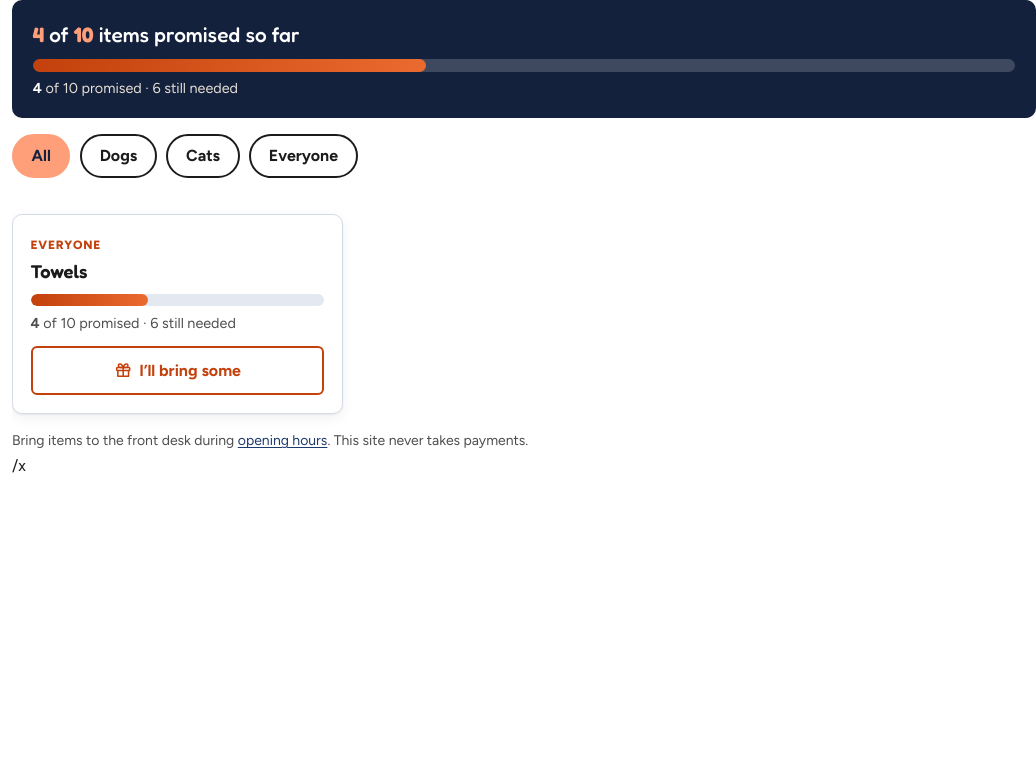
it: Wish list › T-WISH-UI-1: promising items updates the progress bar and thanks the person
Expected: the text "6 still needed" below "Towels" is shown, x1=140 y1=314 x2=236 y2=332
Click the button "I’ll bring some". click: (177, 371)
box: x1=31 y1=346 x2=324 y2=395
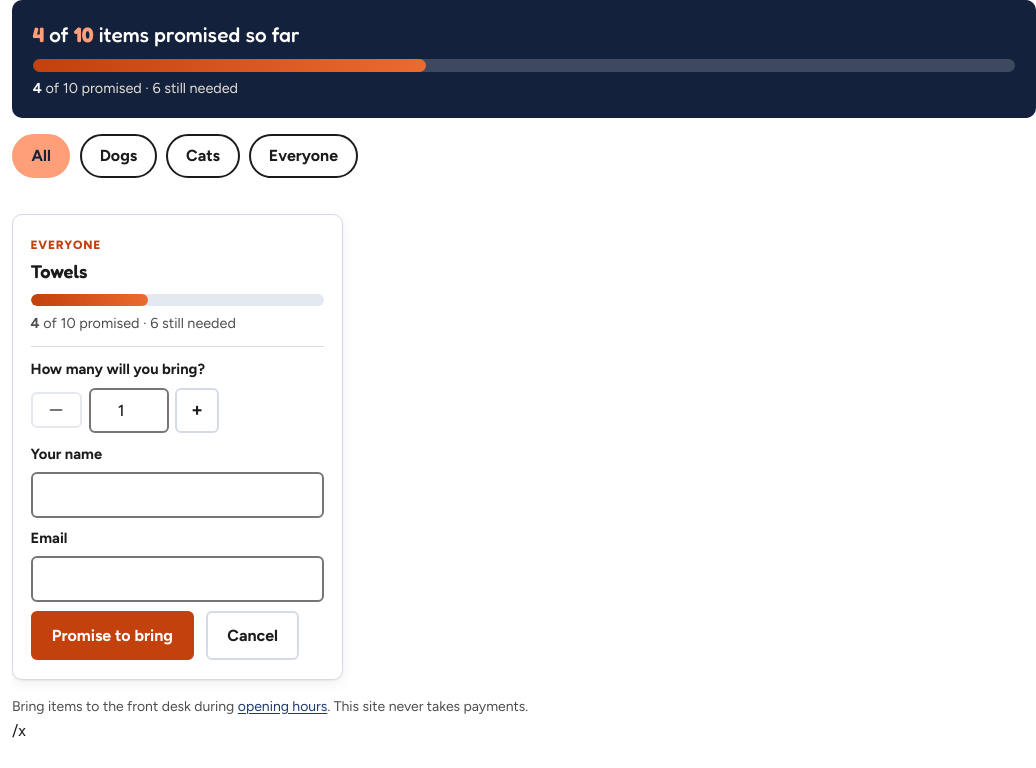
Click the button named "One more". click: (197, 410)
box: x1=175 y1=388 x2=219 y2=432
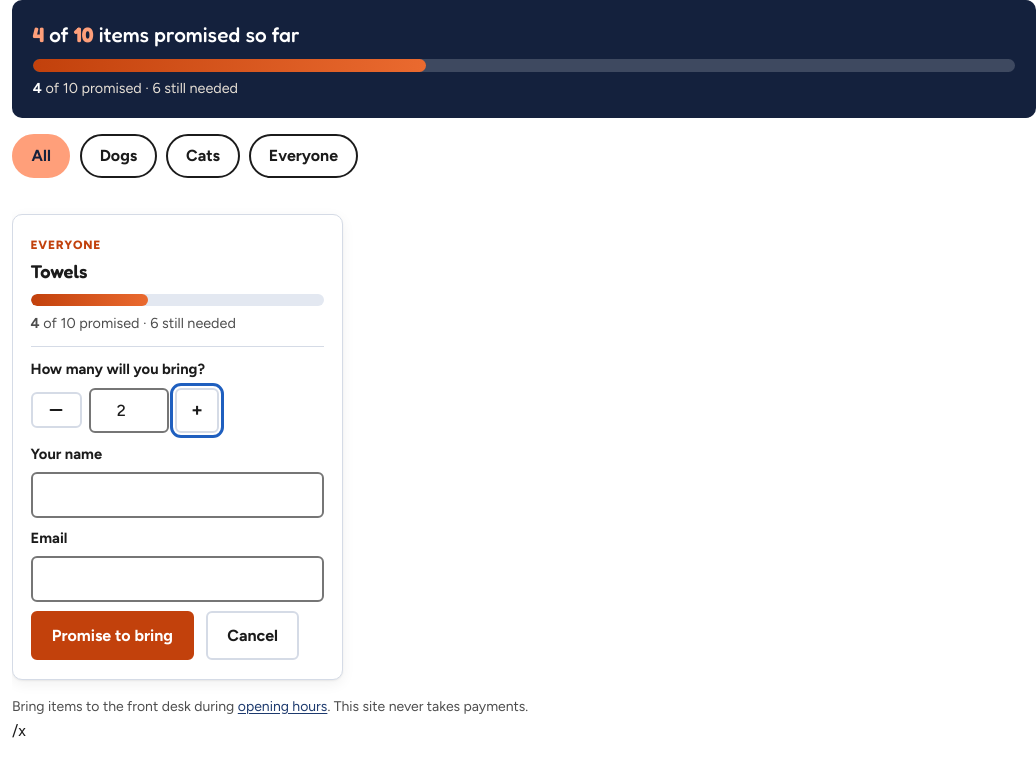
Type "Jo" into the field labelled "Your name". click: (177, 495)
box: x1=31 y1=472 x2=324 y2=518
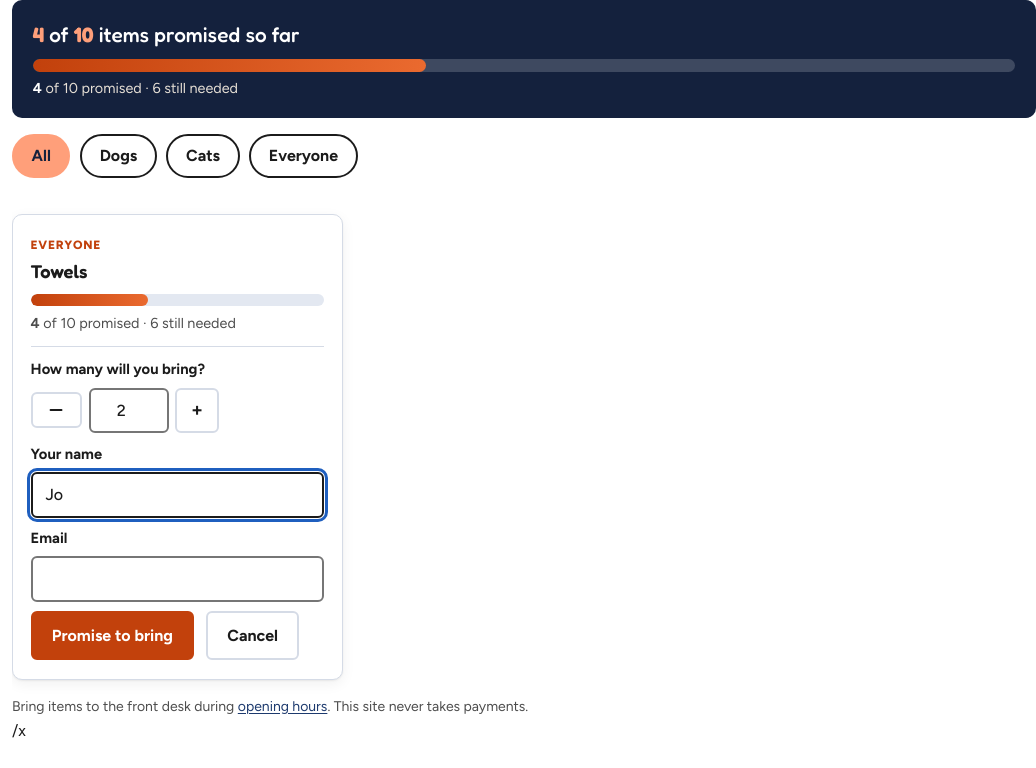
Type "jo@example.com" into the field labelled "Email". click: (177, 579)
box: x1=31 y1=556 x2=324 y2=602
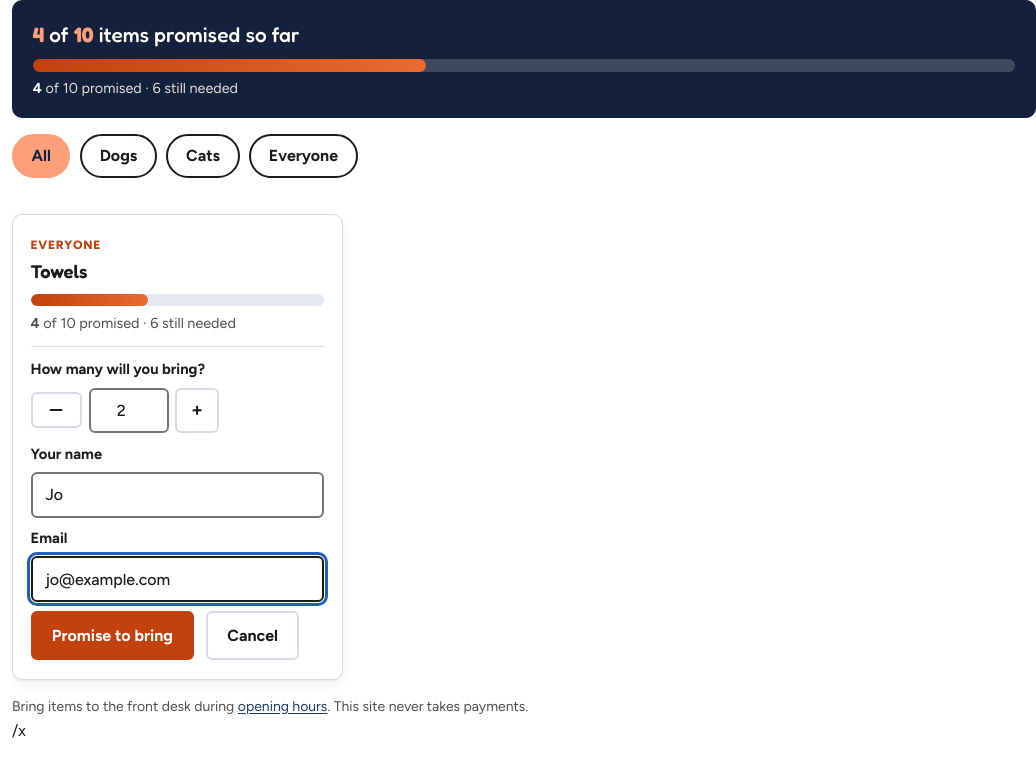
Click the button "Promise to bring". click: (112, 636)
box: x1=31 y1=611 x2=194 y2=660
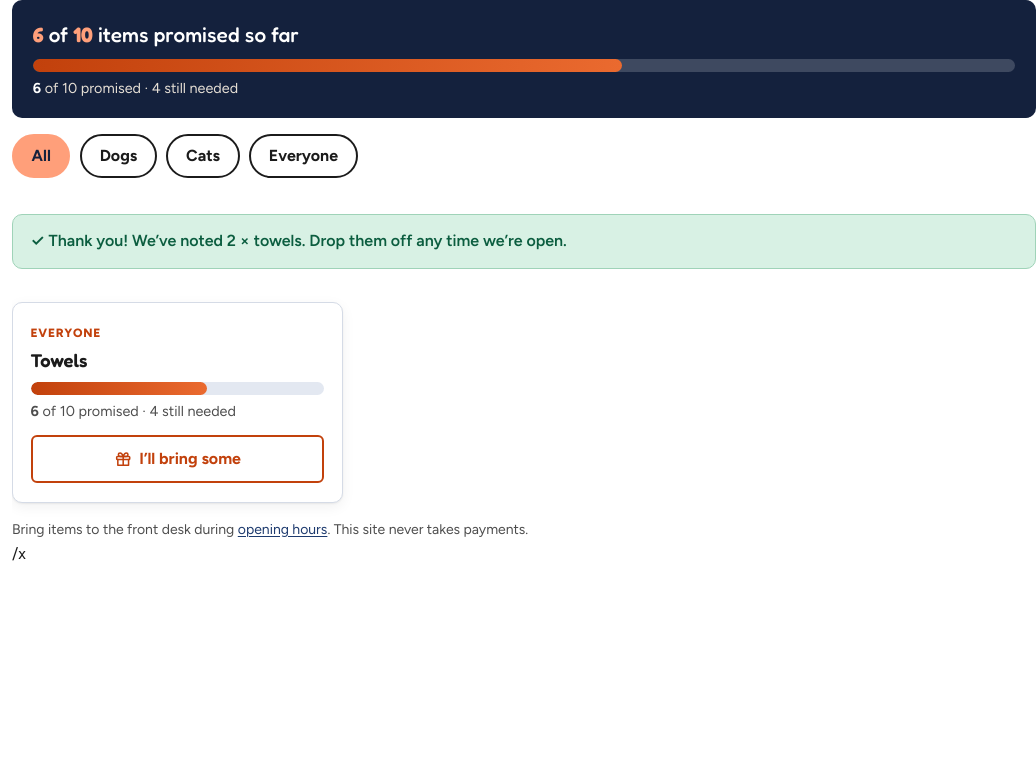
Now the message shows "We’ve noted 2 × towels", box x1=49 y1=232 x2=567 y2=250
Now the 2nd text "4 still needed" is shown, box x1=139 y1=402 x2=236 y2=420
